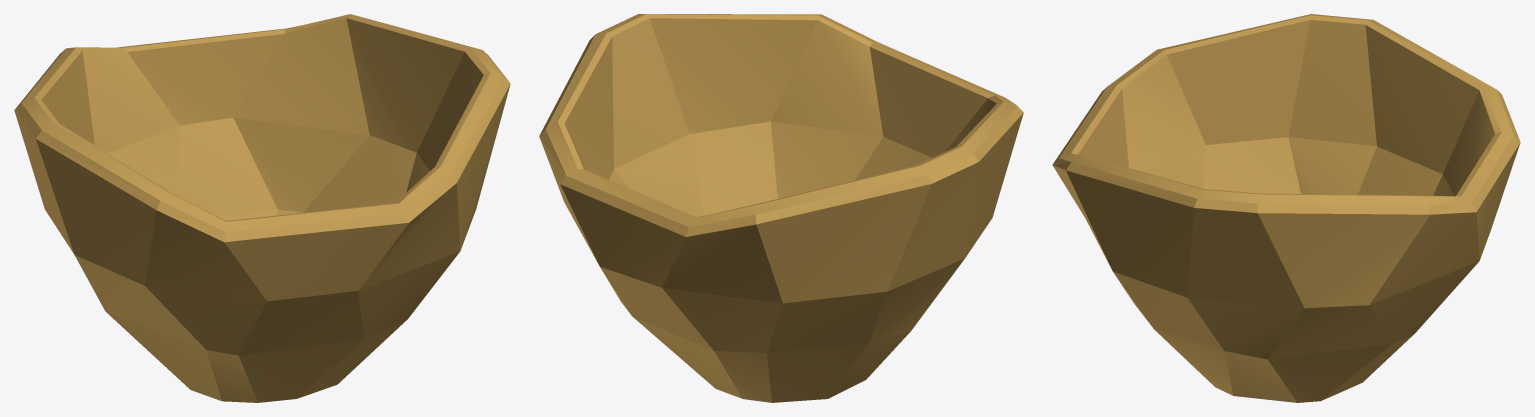
3 views of the same model, side by side, from view 1: azimuth 30°, elevation 25°; view 2: azimuth 150°, elevation 25°; view 3: azimuth 270°, elevation 25° (orthographic). The views are drawn at different scales.
Parts seen in each view (by area): view 1: Cylinder001; view 2: Cylinder001; view 3: Cylinder001.
Part boxes in pixels (bbox=[...]): Cylinder001: bbox=[14, 14, 510, 402]; Cylinder001: bbox=[539, 14, 1023, 402]; Cylinder001: bbox=[1052, 14, 1520, 402].
Size of the model in its own units: 295 by 187 by 299.
